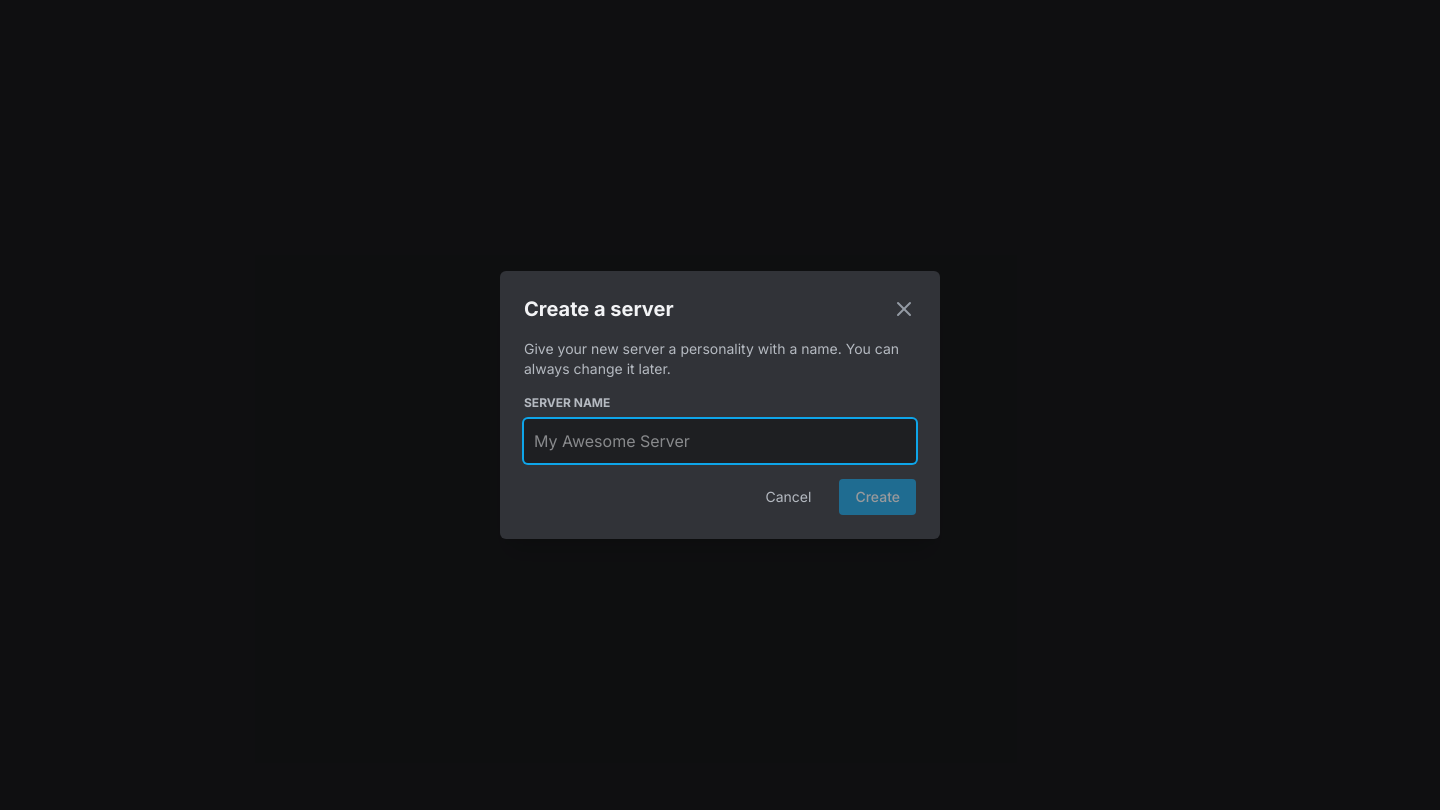
Test: CreateServerModal › enables Create button when name is entered
In the field with placeholder "My Awesome Server": (720, 441) [524, 419, 916, 463], type "Test Server"
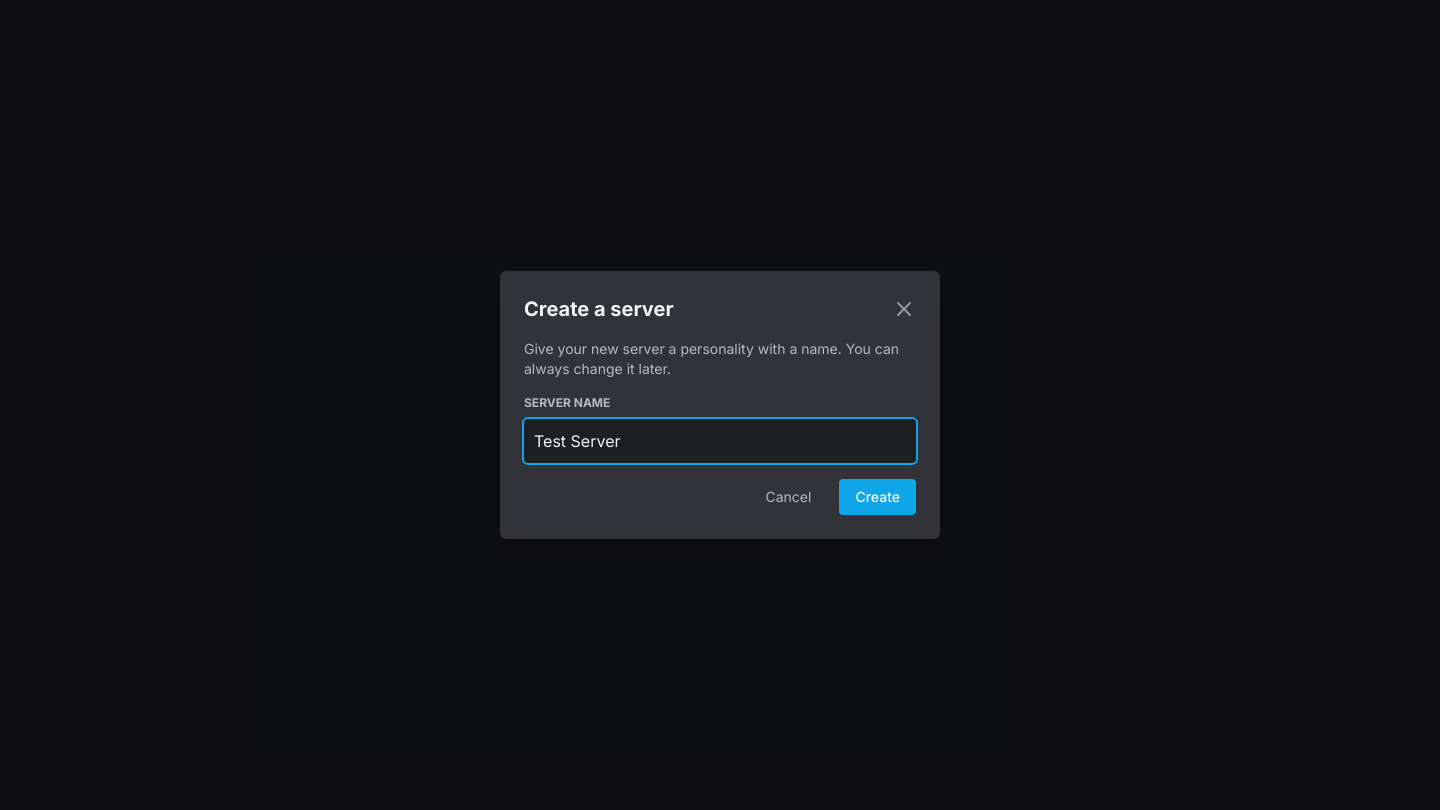
Expected: the button "Create" is enabled, [839, 479, 916, 515]
